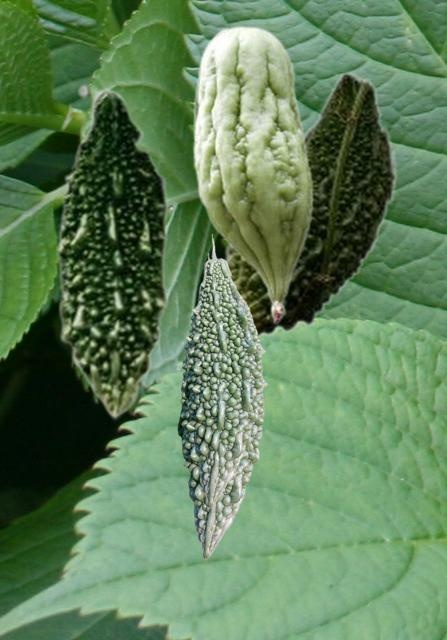ampalaya: (220, 71, 397, 337), (56, 83, 176, 420), (192, 25, 313, 323), (177, 253, 266, 558), (184, 234, 264, 507)
